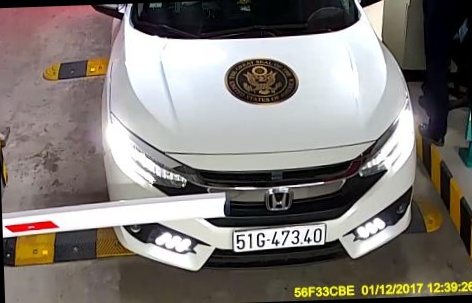plate: (228, 224, 330, 259)
